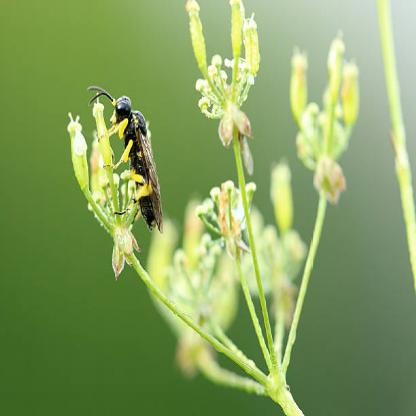sawfly: (84, 75, 167, 242)
